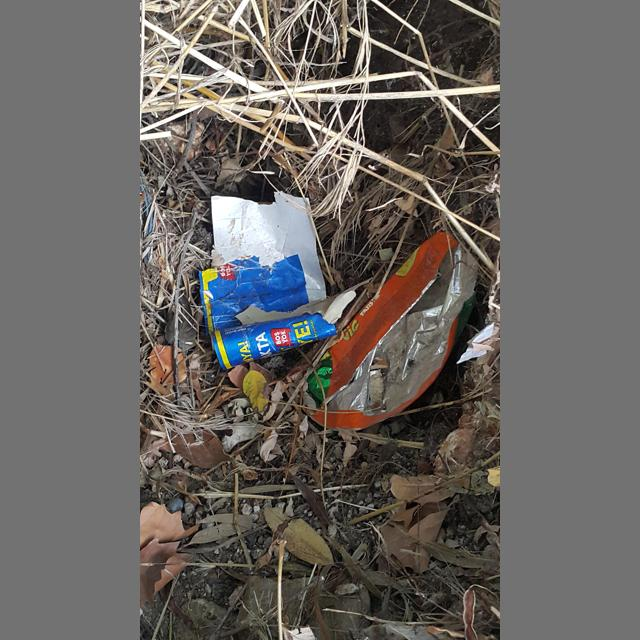litter: (302, 231, 480, 431), (199, 191, 371, 370)
